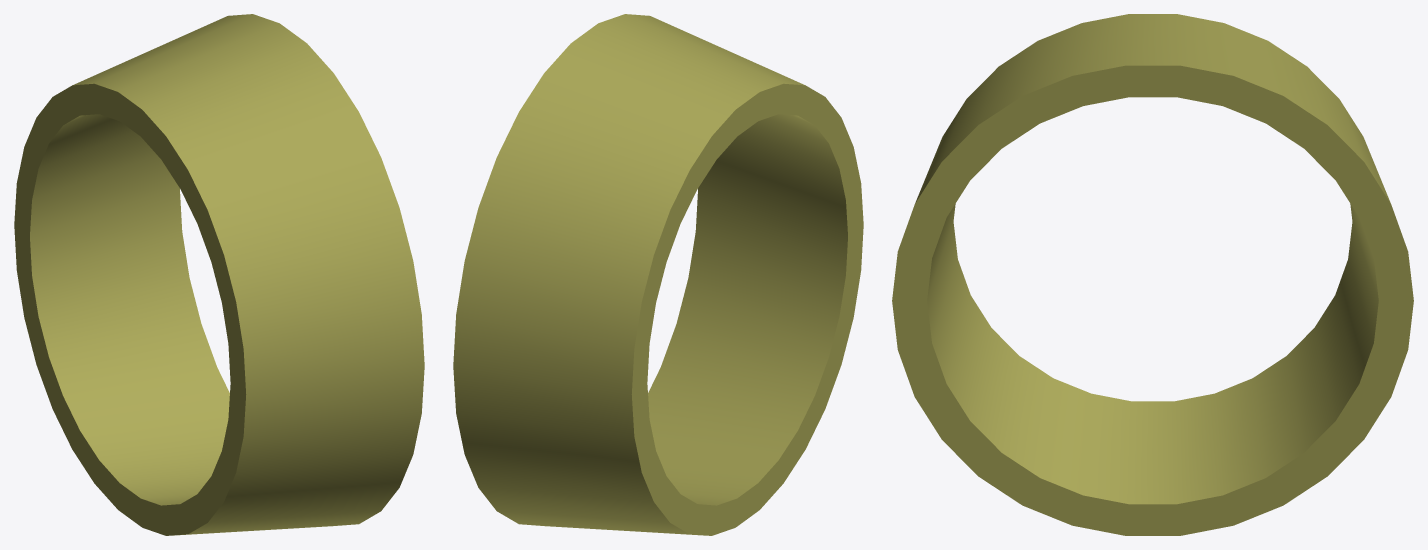
The model's file is Engine 03.fbx.
3 renders of one model, left to right at view 1: azimuth 30°, elevation 25°; view 2: azimuth 150°, elevation 25°; view 3: azimuth 270°, elevation 25°, orthographic.
Parts seen in each view (by area): view 1: pPipe2; view 2: pPipe2; view 3: pPipe2.
Boxes of the visible parts, left/top/right/bottom form: pPipe2: left=14, top=14, right=424, bottom=535; pPipe2: left=453, top=14, right=863, bottom=535; pPipe2: left=892, top=14, right=1413, bottom=535.
Bounding box in the file's own units: 0.5371 × 1.49 × 1.5.
